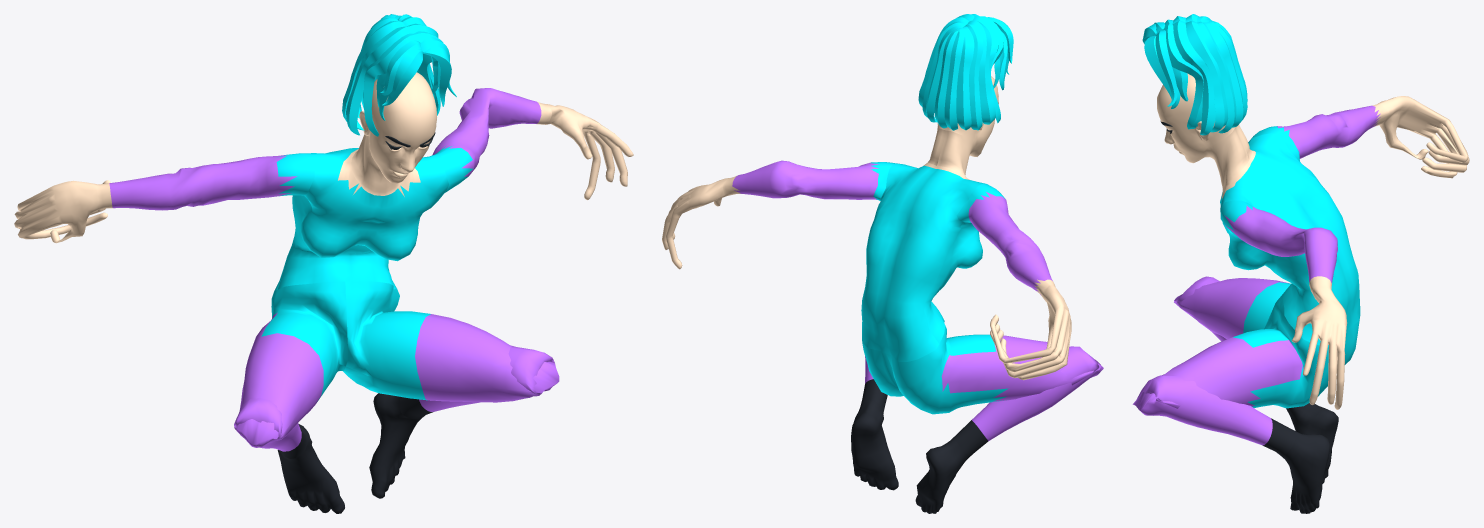
The model's file is fighter-nyx-vale.glb.
3 renders of one model, left to right at view 1: azimuth 30°, elevation 25°; view 2: azimuth 150°, elevation 25°; view 3: azimuth 270°, elevation 25°, orthographic. The views are drawn at different scales.
Parts seen in each view (by area): view 1: Superhero_Female, fighterNyxVale_Hair_Hair_Long; view 2: Superhero_Female, fighterNyxVale_Hair_Hair_Long; view 3: Superhero_Female, fighterNyxVale_Hair_Hair_Long.
Part boxes in pixels (box(x1,y1,x2,y2)): Superhero_Female: box(14, 72, 633, 513); fighterNyxVale_Hair_Hair_Long: box(342, 14, 456, 136); Superhero_Female: box(662, 76, 1103, 513); fighterNyxVale_Hair_Hair_Long: box(918, 14, 1013, 130); Superhero_Female: box(1132, 73, 1469, 513); fighterNyxVale_Hair_Hair_Long: box(1142, 14, 1247, 135).
Bounding box in the file's own units: 1.43 × 1.35 × 0.8512.
